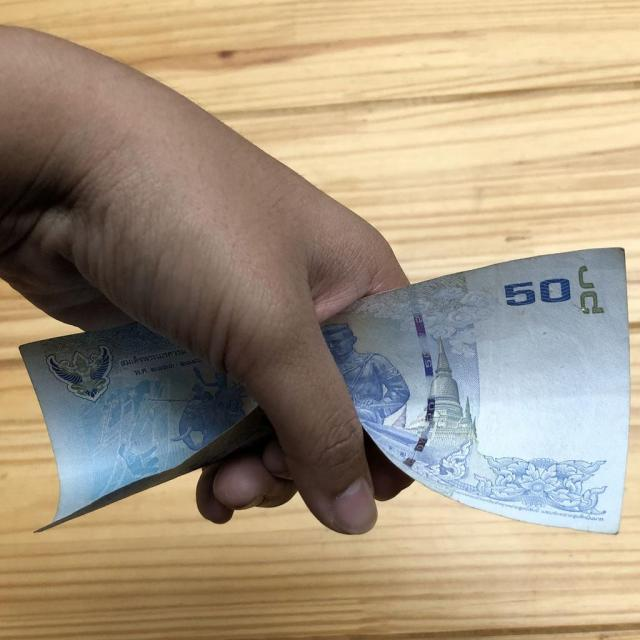THAI50: (321, 248, 629, 533), (19, 324, 272, 532)
